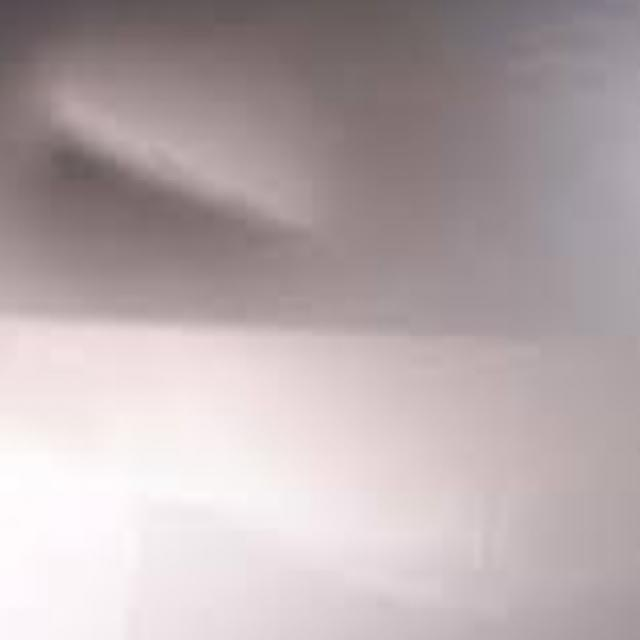dents: (12, 96, 326, 283)
